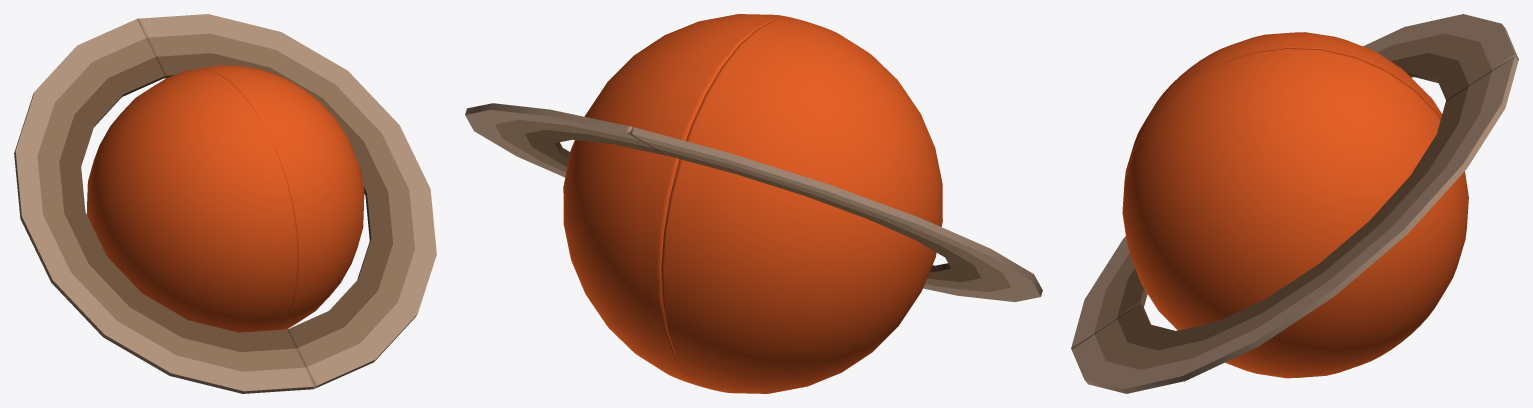
Rendered from SM_Planet_01a.fbx.
The picture shows the model from 3 angles, left to right: view 1: azimuth 30°, elevation 25°; view 2: azimuth 150°, elevation 25°; view 3: azimuth 270°, elevation 25°; orthographic projection. The views are drawn at different scales.
Parts seen in each view (by area): view 1: Planet_02, Planet_01; view 2: Planet_02, Planet_01; view 3: Planet_01, Planet_02.
Part boxes in pixels (x1,y1,x2,y2): Planet_02: (14,19,314,393); Planet_01: (137,14,436,388); Planet_02: (630,17,1042,393); Planet_01: (465,14,791,389); Planet_01: (1071,48,1518,393); Planet_02: (1071,14,1518,348).
Size of the model in its own units: 47.51 by 30.37 by 39.26.
